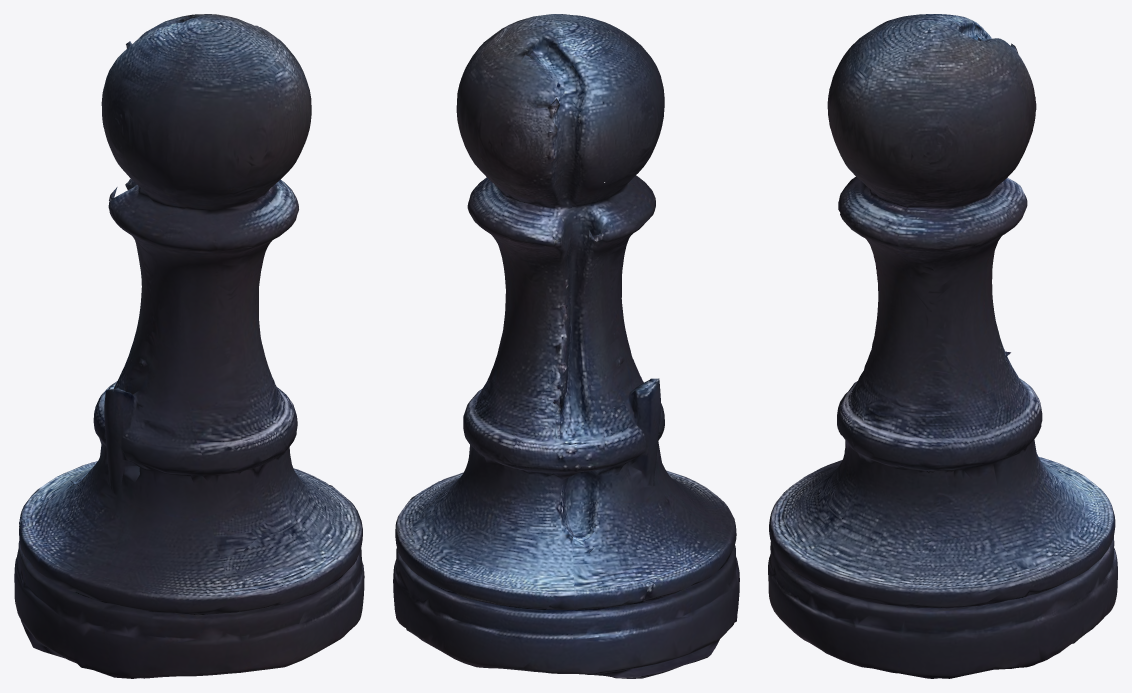
The model's file is pawn.glb.
3 renders of one model, left to right at view 1: azimuth 30°, elevation 25°; view 2: azimuth 150°, elevation 25°; view 3: azimuth 270°, elevation 25°, orthographic.
Parts seen in each view (by area): view 1: tripo_node_bc0315e7-3c03-496b-9d27-5c4a21d65d87; view 2: tripo_node_bc0315e7-3c03-496b-9d27-5c4a21d65d87; view 3: tripo_node_bc0315e7-3c03-496b-9d27-5c4a21d65d87.
Boxes of the visible parts, bbox=[...] form: tripo_node_bc0315e7-3c03-496b-9d27-5c4a21d65d87: bbox=[14, 14, 364, 678]; tripo_node_bc0315e7-3c03-496b-9d27-5c4a21d65d87: bbox=[393, 14, 739, 678]; tripo_node_bc0315e7-3c03-496b-9d27-5c4a21d65d87: bbox=[768, 14, 1117, 678].
Bounding box in the file's own units: 0.5263 × 0.9786 × 0.5258.
1 material, 1 textured.
